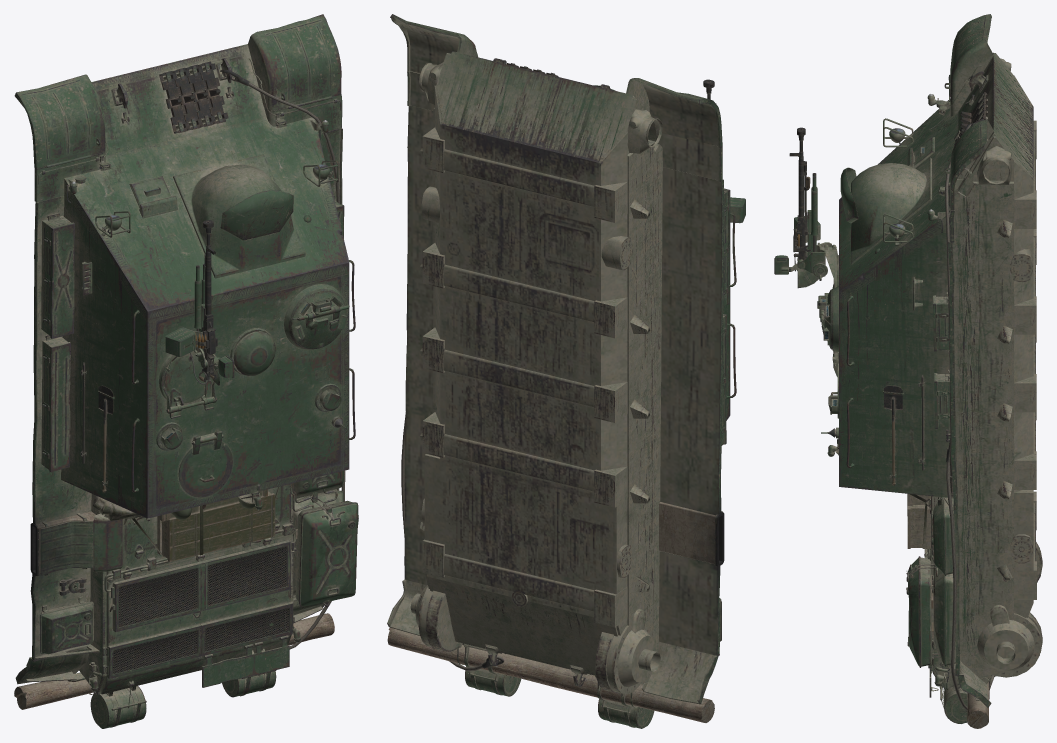
File: Hull.glb
3 renders of one model, left to right at view 1: azimuth 30°, elevation 25°; view 2: azimuth 150°, elevation 25°; view 3: azimuth 270°, elevation 25°, orthographic. The views are drawn at different scales.
Parts seen in each view (by area): view 1: set_0_group_0, set_0_group_1, set_0_group_2; view 2: set_0_group_0, set_0_group_1; view 3: set_0_group_0, set_0_group_1, set_0_group_2.
Part boxes in pixels (x1,y1,x2,y2): set_0_group_0: [14, 14, 355, 728]; set_0_group_1: [14, 61, 358, 709]; set_0_group_2: [220, 190, 293, 240]; set_0_group_0: [387, 14, 736, 728]; set_0_group_1: [387, 60, 745, 722]; set_0_group_0: [817, 14, 1042, 723]; set_0_group_1: [774, 92, 995, 728]; set_0_group_2: [840, 167, 858, 223].
Size of the model in its own units: 3.34 by 6.62 by 2.64.
3 materials, 3 textured.
